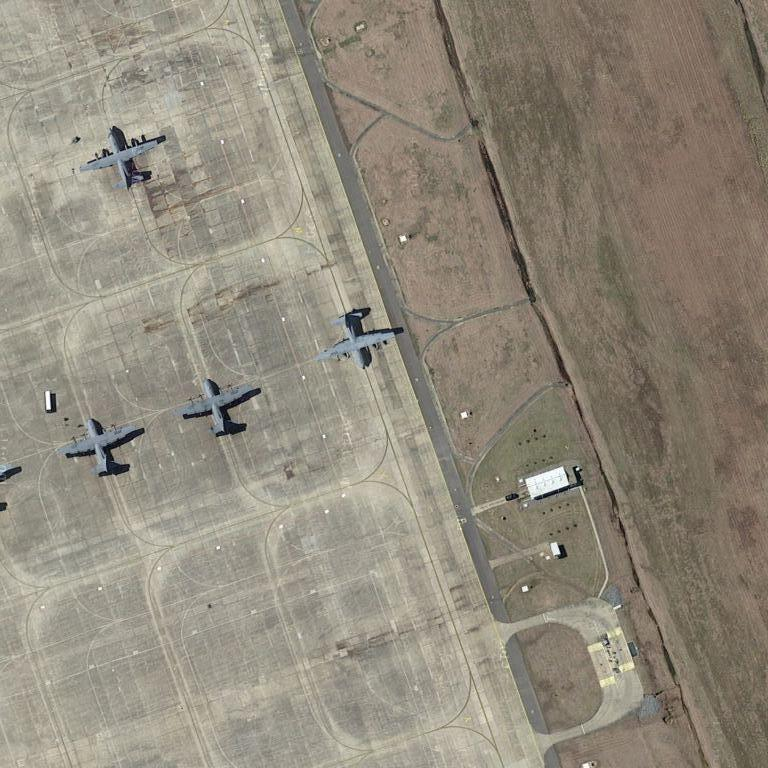C-130: (316, 302, 409, 375), (82, 124, 168, 197), (62, 413, 142, 480), (181, 375, 259, 440)
